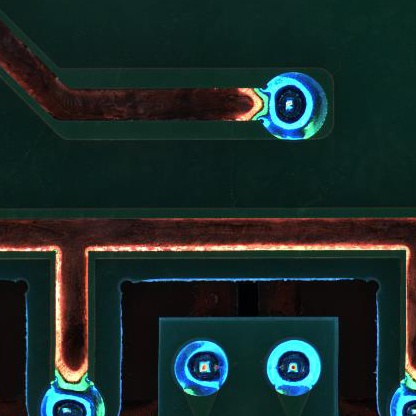spot: (262, 72, 330, 142), (264, 339, 324, 398), (174, 340, 229, 395)
